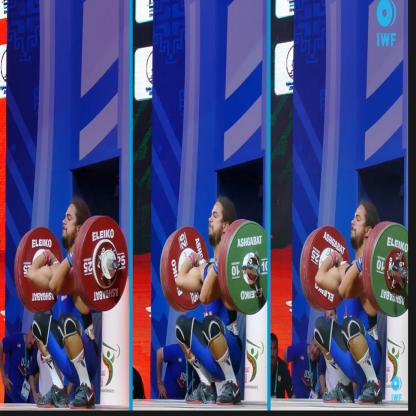Barbell: (70, 209, 130, 313)
